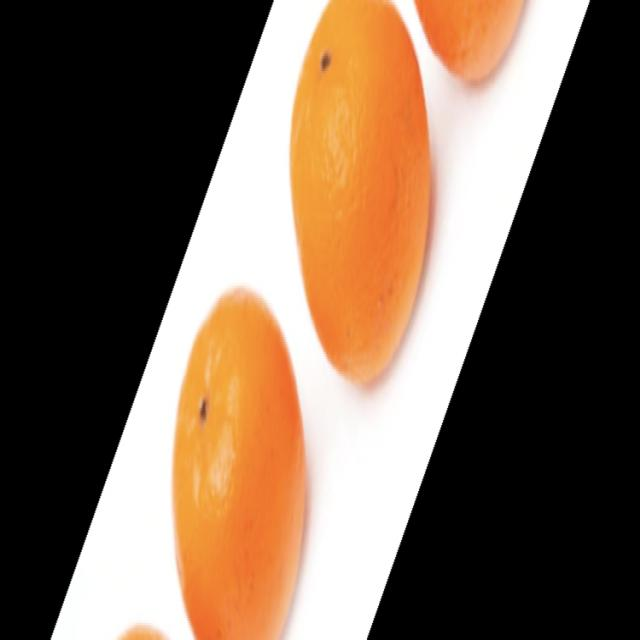fresh: (147, 10, 530, 640)
